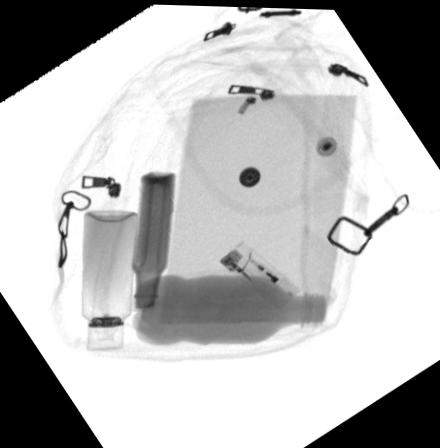Lighter: (217, 237, 301, 312)
Sprayer: (80, 208, 137, 349)
